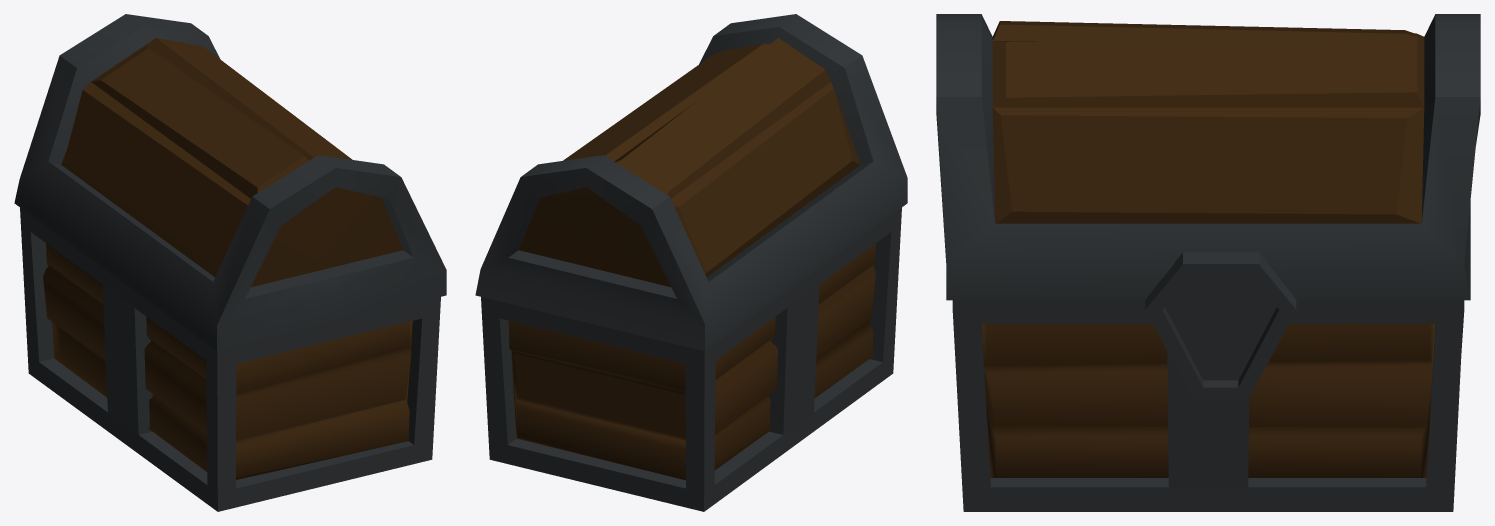
The model's file is chest_closed.fbx.
3 renders of one model, left to right at view 1: azimuth 30°, elevation 25°; view 2: azimuth 150°, elevation 25°; view 3: azimuth 270°, elevation 25°, orthographic. The views are drawn at different scales.
Visible parts, largest first — view 1: chest_closed; view 2: chest_closed; view 3: chest_closed.
Boxes of the visible parts, x1,y1,x2,y2 form: chest_closed: (14, 14, 446, 511); chest_closed: (475, 14, 907, 511); chest_closed: (936, 14, 1480, 511).
Size of the model in its own units: 44.06 by 55.86 by 65.36.
